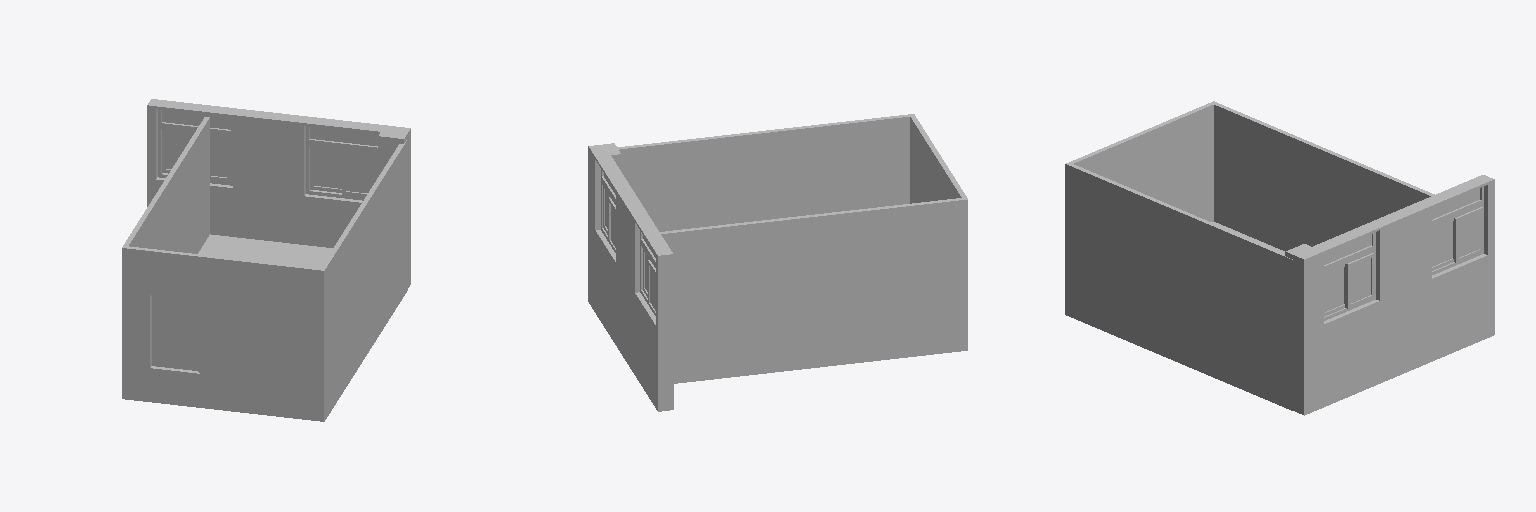
The picture shows the model from 3 angles: view 1: azimuth 30°, elevation 25°; view 2: azimuth 150°, elevation 25°; view 3: azimuth 270°, elevation 25°; orthographic projection.
Parts seen in each view (by area): view 1: Mesh1 Group1 Model, Mesh3 Group3 Model, Mesh2 Group2 Model, Mesh5 Group5 Model, Mesh6 Group6 Model, Mesh4 Group4 Model, Mesh11 Glazing2 Window_Sliding_Casement_14_1 Window_Sliding_7_1 , Mesh8 Glazing Window_Sliding_Casement_14 Window_Sliding_7_1 Grou, Mesh15 Glazing4 Window_Fixed_2_1 Group7 Model, Mesh7 Window_Sliding_Main_Frame_7 Window_Sliding_7_1 Group7 Mode, Mesh25 Glazing10 Window_Fixed_2_2 Group8 Model, Mesh17 Window_Sliding_Main_Frame_7_1 Window_Sliding_7_2 Group8 M (+2 smaller); view 2: Mesh6 Group6 Model, Mesh5 Group5 Model, Mesh3 Group3 Model, Mesh2 Group2 Model, Mesh1 Group1 Model, Mesh4 Group4 Model; view 3: Mesh5 Group5 Model, Mesh3 Group3 Model, Mesh6 Group6 Model, Mesh1 Group1 Model, Mesh2 Group2 Model, Mesh4 Group4 Model, Mesh19 Glazing7 Window_Sliding_Casement_14_2 Window_Sliding_7_2 , Mesh22 Glazing9 Window_Sliding_Casement_14_3 Window_Sliding_7_2 , Mesh12 Glazing3 Window_Sliding_Casement_14_1 Window_Sliding_7_1 , Mesh9 Glazing1 Window_Sliding_Casement_14 Window_Sliding_7_1 Gro, Mesh13 Window_Sliding_Casement_14_1 Window_Sliding_7_1 Group7 Mo, Mesh23 Window_Sliding_Casement_14_3 Window_Sliding_7_2 Group8 Mo (+2 smaller).
Boxes of the visible parts, <box> form: Mesh1 Group1 Model: <box>122,246,325,387</box>; Mesh3 Group3 Model: <box>147,99,410,287</box>; Mesh2 Group2 Model: <box>122,234,407,421</box>; Mesh5 Group5 Model: <box>321,140,407,384</box>; Mesh6 Group6 Model: <box>123,117,209,253</box>; Mesh4 Group4 Model: <box>378,125,410,253</box>; Mesh11 Glazing2 Window_Sliding_Casement_14_1 Window_Sliding_7_1 : <box>314,149,341,188</box>; Mesh8 Glazing Window_Sliding_Casement_14 Window_Sliding_7_1 Grou: <box>346,154,374,192</box>; Mesh15 Glazing4 Window_Fixed_2_1 Group7 Model: <box>310,127,378,145</box>; Mesh7 Window_Sliding_Main_Frame_7 Window_Sliding_7_1 Group7 Mode: <box>306,142,377,200</box>; Mesh25 Glazing10 Window_Fixed_2_2 Group8 Model: <box>162,111,230,129</box>; Mesh17 Window_Sliding_Main_Frame_7_1 Window_Sliding_7_2 Group8 M: <box>158,125,232,185</box>; Mesh6 Group6 Model: <box>660,198,962,349</box>; Mesh5 Group5 Model: <box>617,114,909,231</box>; Mesh3 Group3 Model: <box>588,146,673,411</box>; Mesh2 Group2 Model: <box>674,317,967,383</box>; Mesh1 Group1 Model: <box>909,114,967,316</box>; Mesh4 Group4 Model: <box>588,143,620,277</box>; Mesh5 Group5 Model: <box>1069,164,1292,376</box>; Mesh3 Group3 Model: <box>1293,175,1494,415</box>; Mesh6 Group6 Model: <box>1214,103,1434,251</box>; Mesh1 Group1 Model: <box>1065,101,1216,281</box>; Mesh2 Group2 Model: <box>1065,222,1292,410</box>; Mesh4 Group4 Model: <box>1285,244,1323,380</box>; Mesh19 Glazing7 Window_Sliding_Casement_14_2 Window_Sliding_7_2 : <box>1432,222,1452,266</box>; Mesh22 Glazing9 Window_Sliding_Casement_14_3 Window_Sliding_7_2 : <box>1459,213,1479,257</box>; Mesh12 Glazing3 Window_Sliding_Casement_14_1 Window_Sliding_7_1 : <box>1351,259,1370,302</box>; Mesh9 Glazing1 Window_Sliding_Casement_14 Window_Sliding_7_1 Gro: <box>1324,268,1343,312</box>; Mesh13 Window_Sliding_Casement_14_1 Window_Sliding_7_1 Group7 Mo: <box>1345,253,1374,308</box>; Mesh23 Window_Sliding_Casement_14_3 Window_Sliding_7_2 Group8 Mo: <box>1454,207,1482,262</box>.
Bounding box in the file's own units: 7.18 × 3.2 × 7.98.